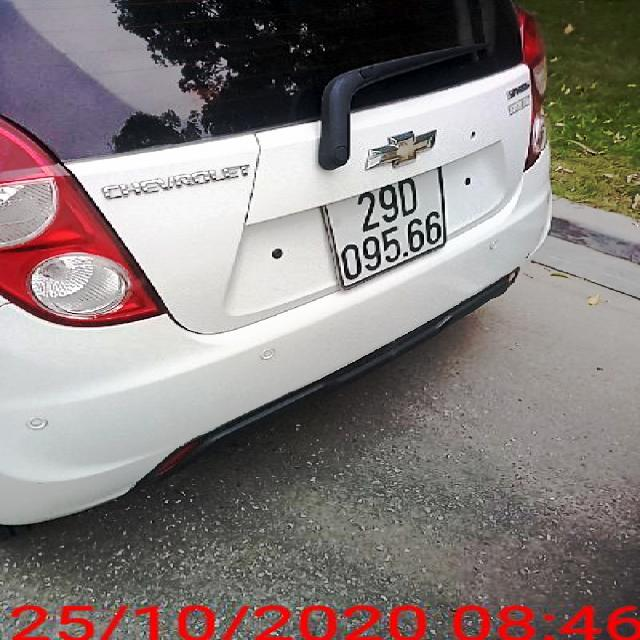license_plate: (326, 163, 455, 290)
